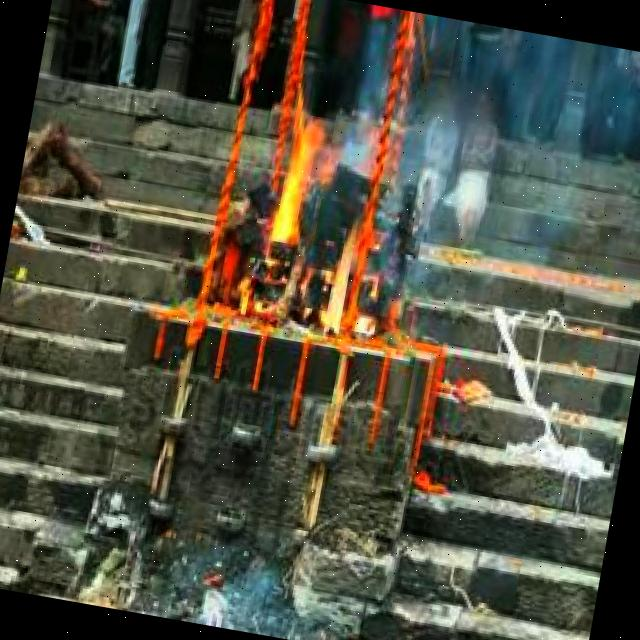fire: (240, 91, 412, 349)
